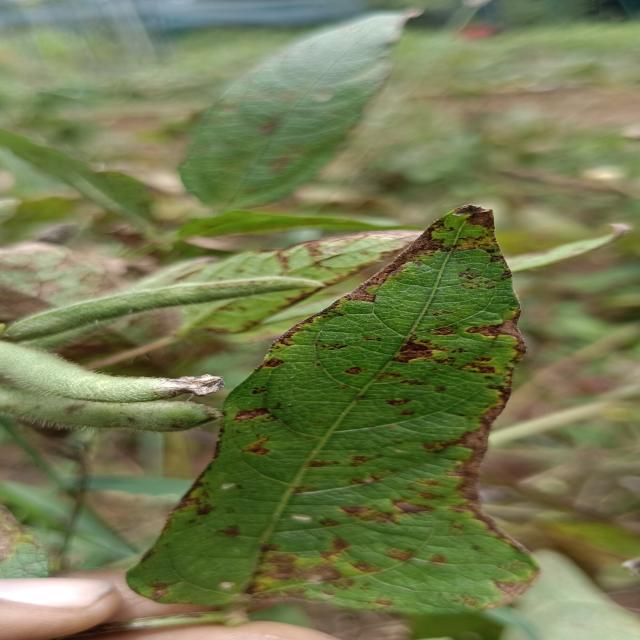Black gram_leaf spot: (119, 200, 562, 634)
